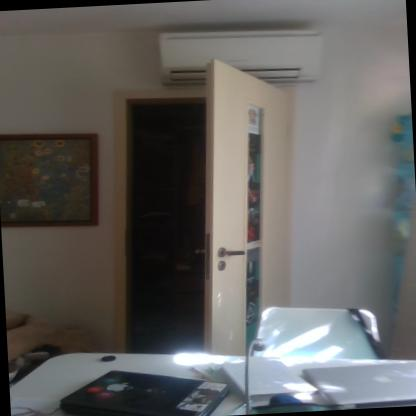semi: (100, 52, 312, 364)
